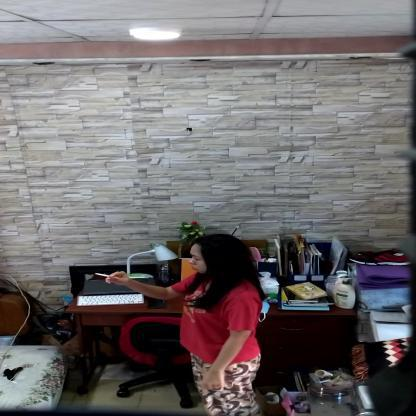cigarette: (95, 272, 110, 278)
person: (151, 234, 265, 415)
